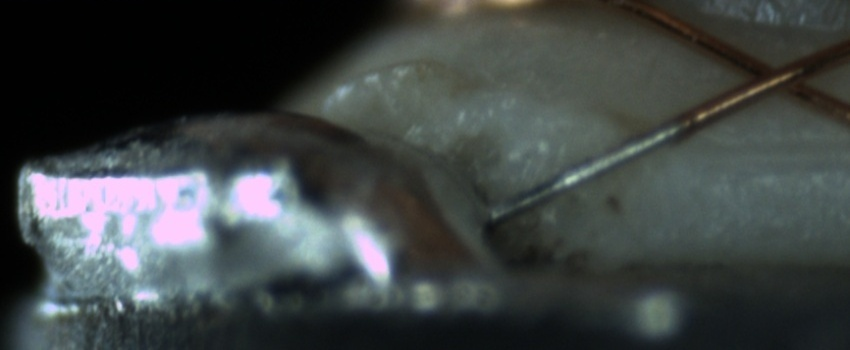CL: (725, 45, 830, 107)
DL: (653, 120, 846, 184)
TS: (485, 121, 686, 220)
